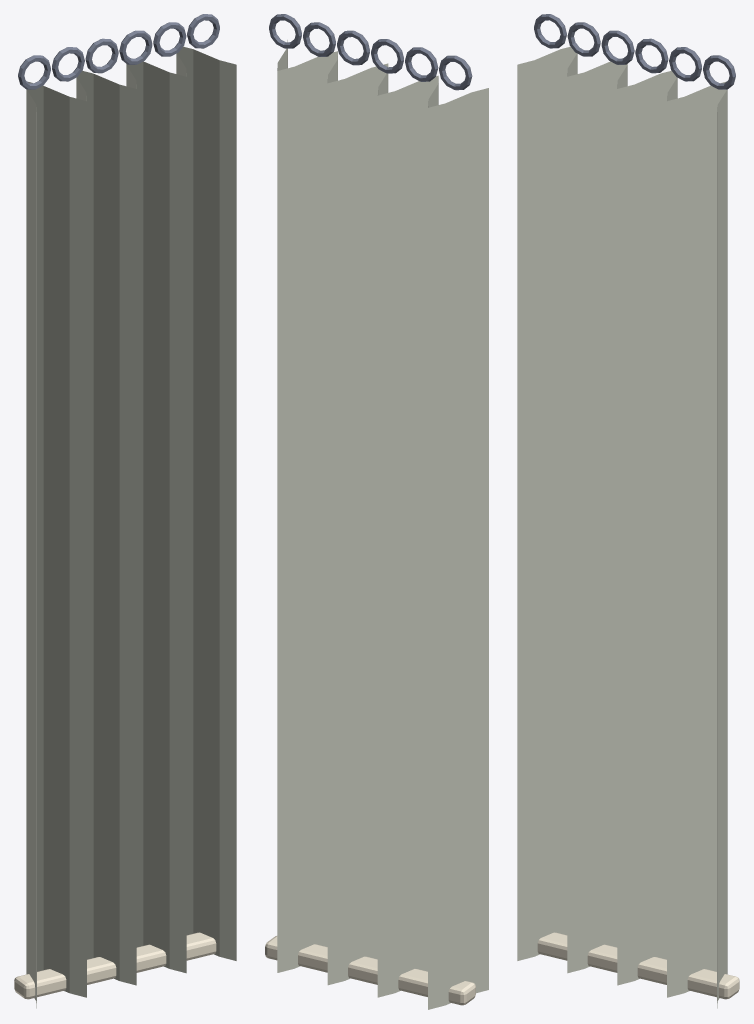
The model's file is curtain.glb.
The picture shows the model from 3 angles, left to right: view 1: azimuth 30°, elevation 25°; view 2: azimuth 150°, elevation 25°; view 3: azimuth 330°, elevation 25°; orthographic projection.
Visible parts, largest first — view 1: curtain_Mesh; view 2: curtain_Mesh; view 3: curtain_Mesh.
Boxes of the visible parts, <box> form: curtain_Mesh: <box>14,14,236,1008</box>; curtain_Mesh: <box>265,14,488,1009</box>; curtain_Mesh: <box>517,14,739,1008</box>.
Size of the model in its own units: 0.526 by 2.33 by 0.16.
